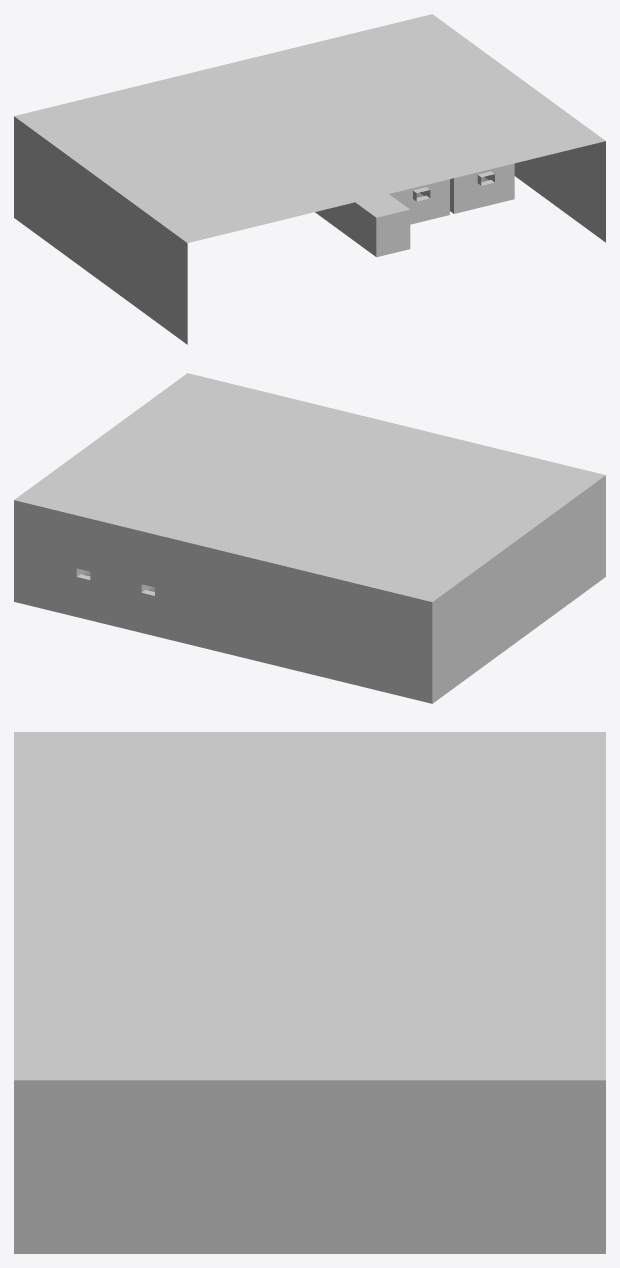
Rendered from prison_1_world.dae.
3 renders of one model, top to bottom at view 1: azimuth 30°, elevation 25°; view 2: azimuth 150°, elevation 25°; view 3: azimuth 270°, elevation 25°, orthographic. The views are drawn at different scales.
Visible parts, largest first — view 1: group_3, group_6, group_4, group_5; view 2: group_3; view 3: group_3.
Part boxes in pixels (<box>): group_3: <box>14,14,605,344</box>; group_6: <box>315,194,410,257</box>; group_4: <box>450,163,514,213</box>; group_5: <box>389,179,449,224</box>; group_3: <box>14,373,605,703</box>; group_3: <box>14,732,605,1253</box>.
Bounding box in the file's own units: 1222 × 878 × 284.
3 materials, 2 textured.
